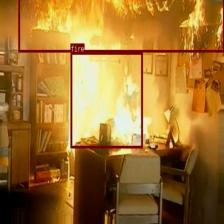fire: (18, 0, 224, 51), (70, 52, 142, 148)
